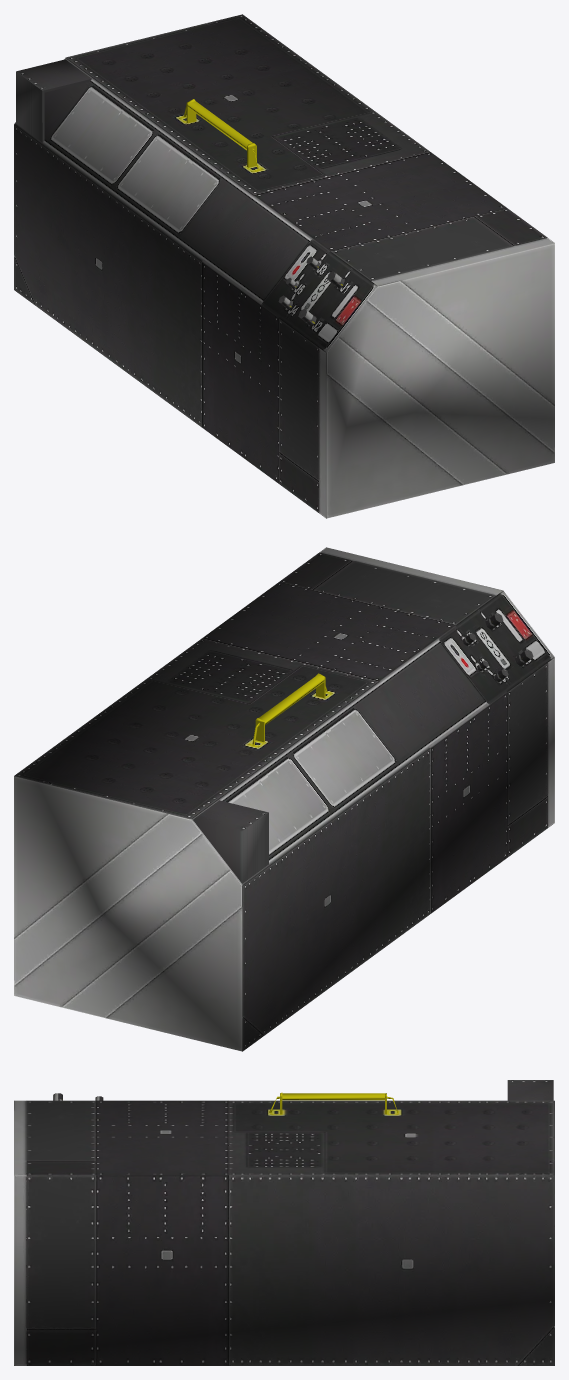
File: cosmic-origins-spectrograph-web.glb
3 views of the same model, one above another, from view 1: azimuth 30°, elevation 25°; view 2: azimuth 150°, elevation 25°; view 3: azimuth 270°, elevation 25° (orthographic). The views are drawn at different scales.
Parts seen in each view (by area): view 1: hubblespac; view 2: hubblespac; view 3: hubblespac.
Part boxes in pixels (x1,y1,x2,y2): hubblespac: [14, 14, 554, 518]; hubblespac: [14, 547, 554, 1051]; hubblespac: [14, 1080, 554, 1365].
Bounding box in the file's own units: 67.66 × 67.88 × 159.
1 material, 1 textured.
